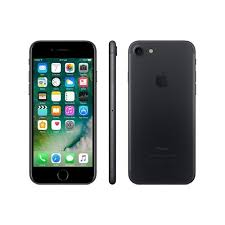iphone: (28, 38, 98, 188), (126, 36, 196, 186)
iphone7: (126, 39, 196, 189), (27, 37, 97, 187)
